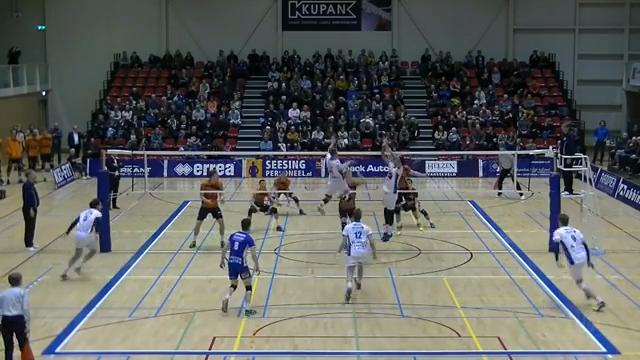alzata: (372, 129, 403, 248)
attacco: (315, 133, 356, 214)
